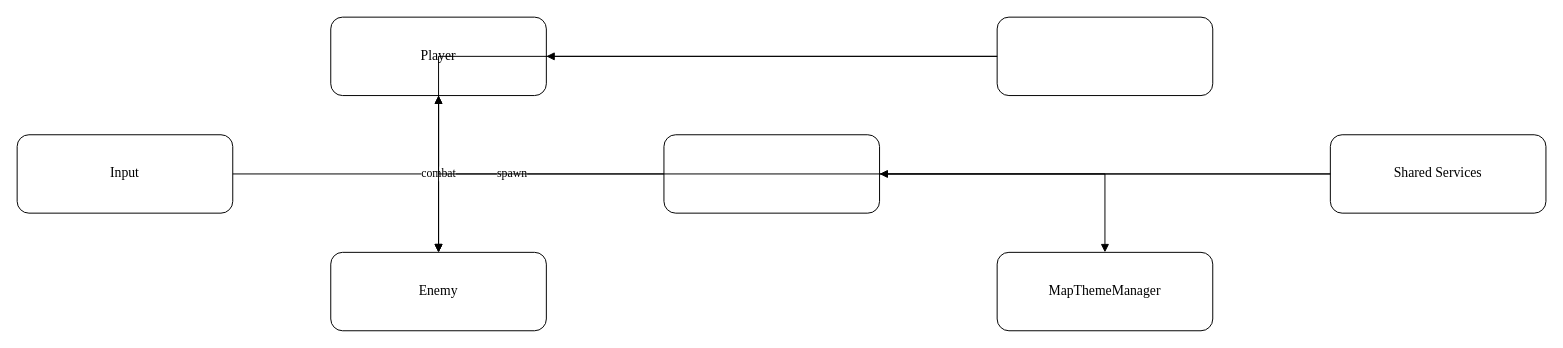
This 1563x348 diagram has some shape labels left out. The shapes that lost their labels are listed below. From the top down, each one's centre as x and y in pixels, then its label:
At pixel 1104 56: "ObjectPool".
At pixel 771 173: "Wave".
